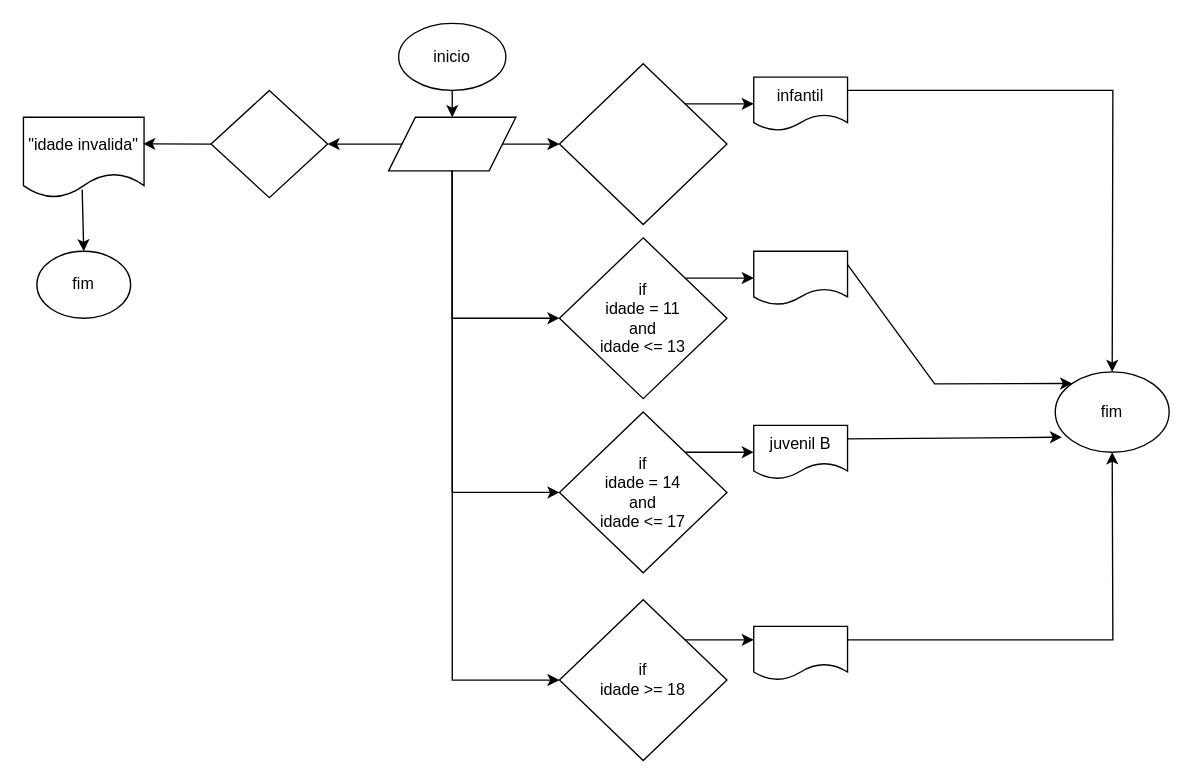
The diagram is 1193 pixels wide and 784 high, and some of its shapes have lost their labels. The shapes that lost their labels are listed below. From the top down, each one's centre as x and y in pixels, then its label:
At (269,143): "if idade < 8".
At (451,143): "leia idade".
At (642,143): "if idade = 8 and idade <= 10".
At (800,277): "juvenil A".
At (800,652): "senior".
